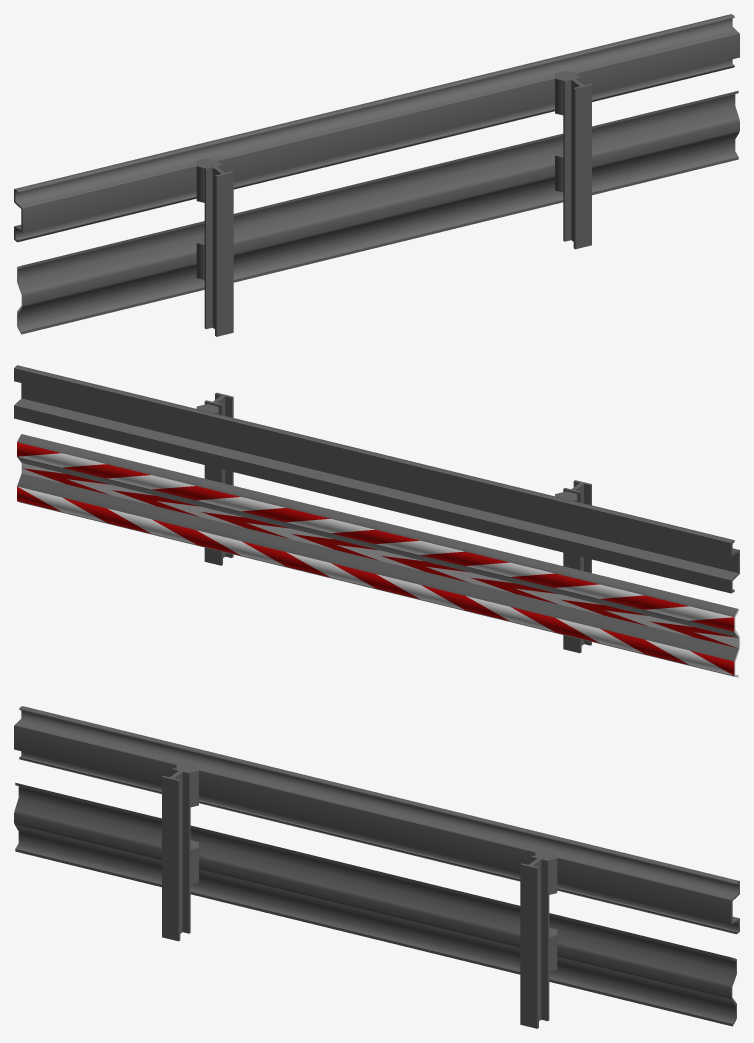
File: guardrail2.obj
The picture shows the model from 3 angles, top to bottom: view 1: azimuth 30°, elevation 25°; view 2: azimuth 150°, elevation 25°; view 3: azimuth 330°, elevation 25°; orthographic projection.
Parts seen in each view (by area): view 1: guardrail2; view 2: guardrail2; view 3: guardrail2.
Boxes of the visible parts, left/top/right/bottom form: guardrail2: left=14, top=14, right=739, bottom=336; guardrail2: left=14, top=365, right=739, bottom=677; guardrail2: left=14, top=706, right=739, bottom=1028.
Bounding box in the file's own units: 9 × 2 × 0.689.
